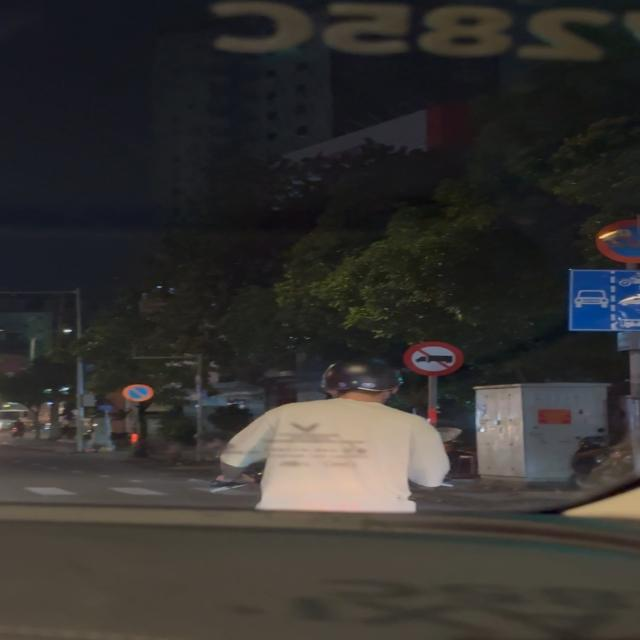Bien bao cam do xe: (119, 384, 159, 403)
Bien bao cam xe so-mi ro-mooc: (400, 339, 468, 377)
